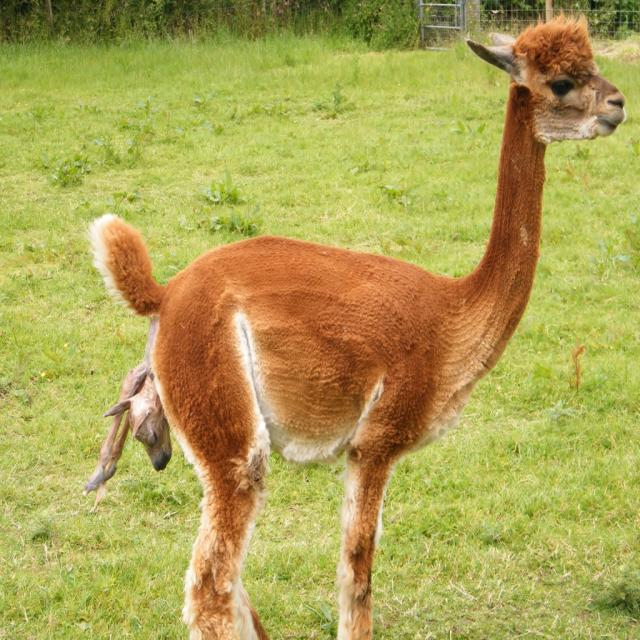alpaca: (92, 15, 625, 640)
